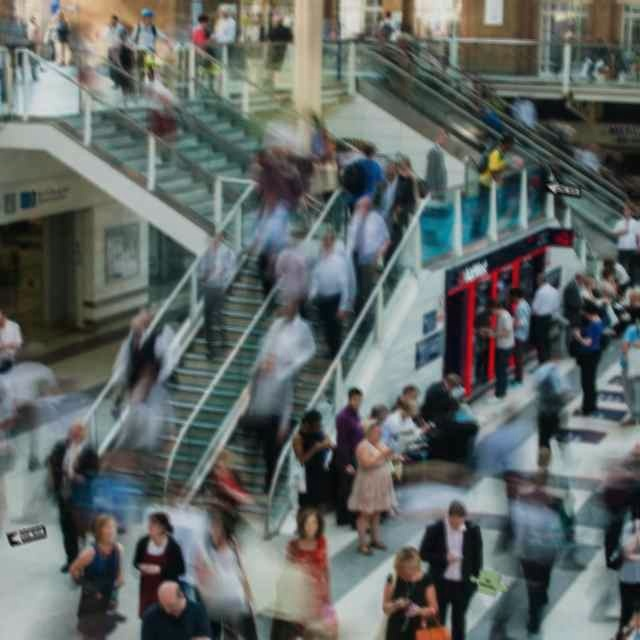GO_AROUND: (470, 568, 511, 596)
ONE_WAY_ left: (7, 524, 48, 546), (542, 179, 583, 198)
